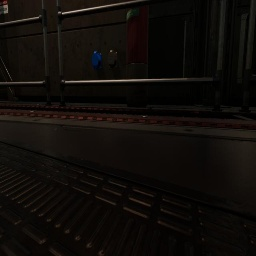NitrogenTank ,: (126, 0, 149, 108)
